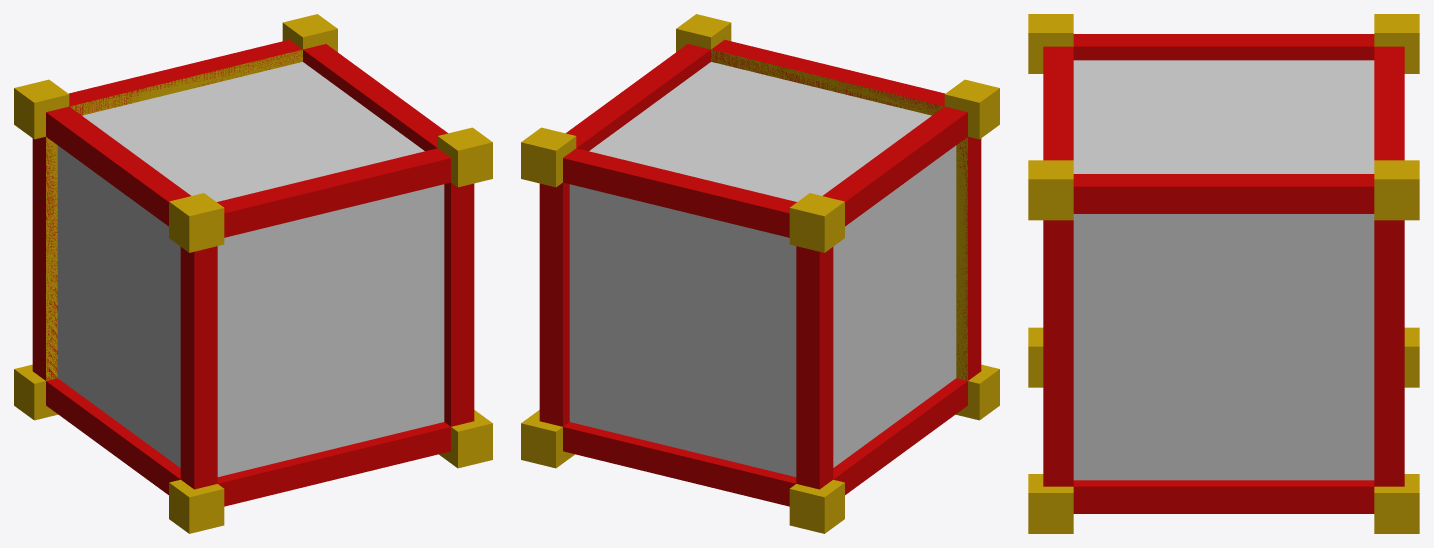
3 views of the same model, side by side, from view 1: azimuth 30°, elevation 25°; view 2: azimuth 150°, elevation 25°; view 3: azimuth 270°, elevation 25° (orthographic). The views are drawn at different scales.
Parts seen in each view (by area): view 1: Cube; view 2: Cube; view 3: Cube.
Boxes of the visible parts, bbox=[...] form: Cube: bbox=[14, 14, 492, 533]; Cube: bbox=[521, 14, 999, 533]; Cube: bbox=[1028, 14, 1419, 533].
Size of the model in its own units: 260 by 260 by 260.
